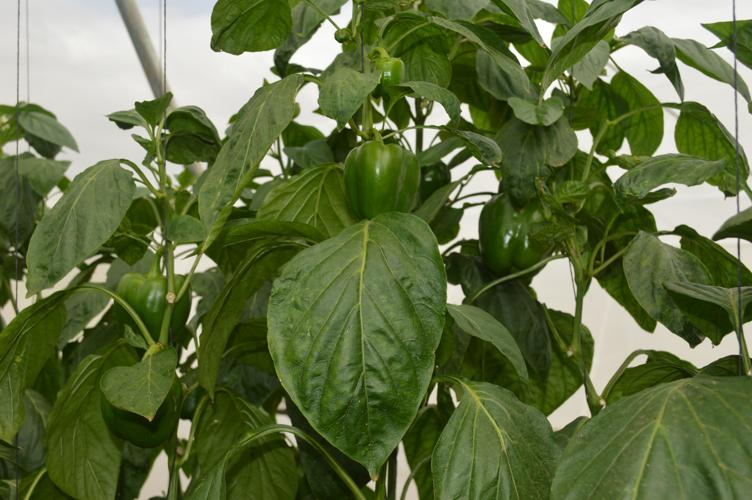BellPepper: (474, 194, 557, 278), (339, 139, 420, 219), (99, 374, 182, 451), (111, 271, 191, 341), (367, 54, 405, 98)
